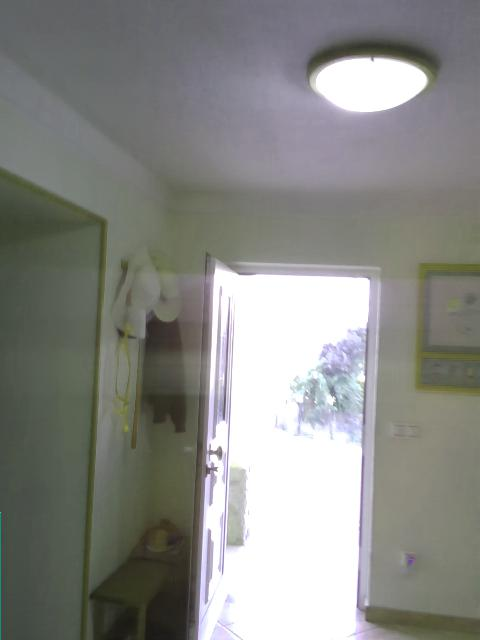open_door: (190, 259, 380, 612)
